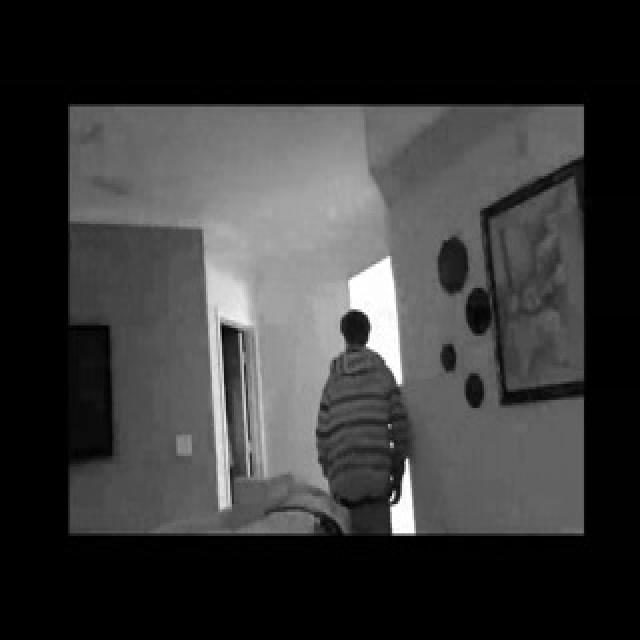thief: (326, 301, 392, 404)
